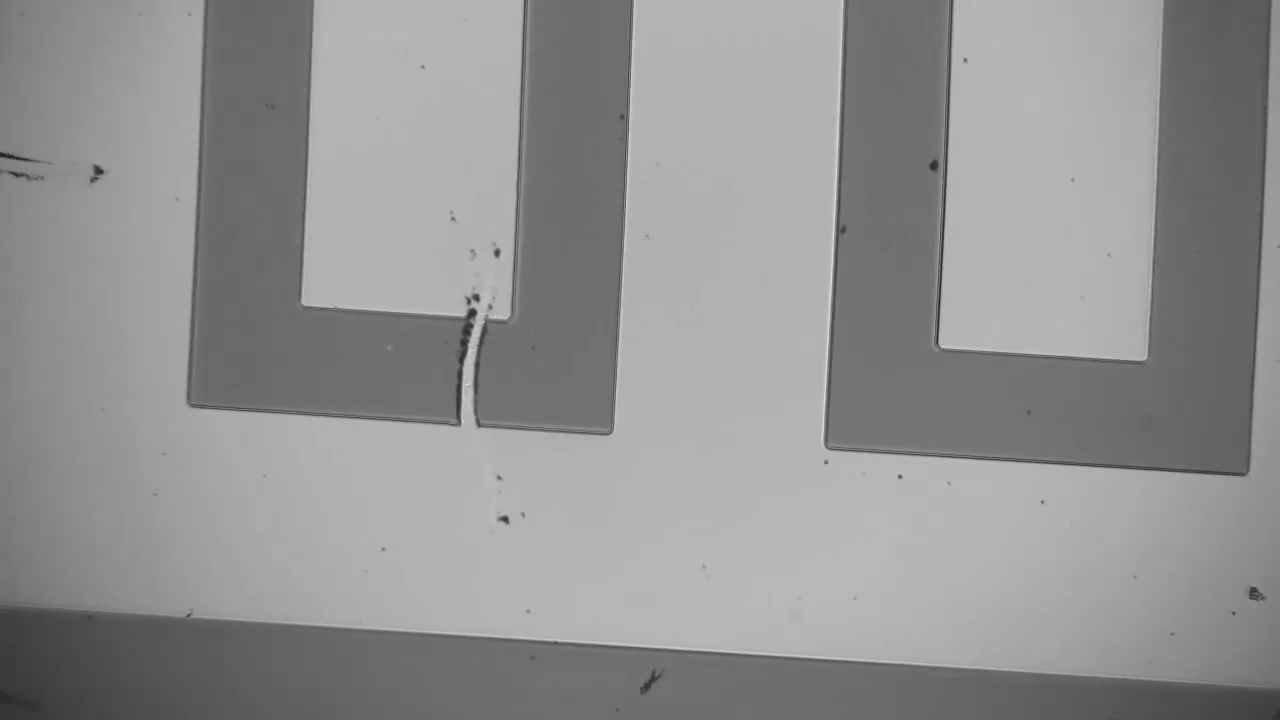Short_circuit: (435, 299, 504, 446)
